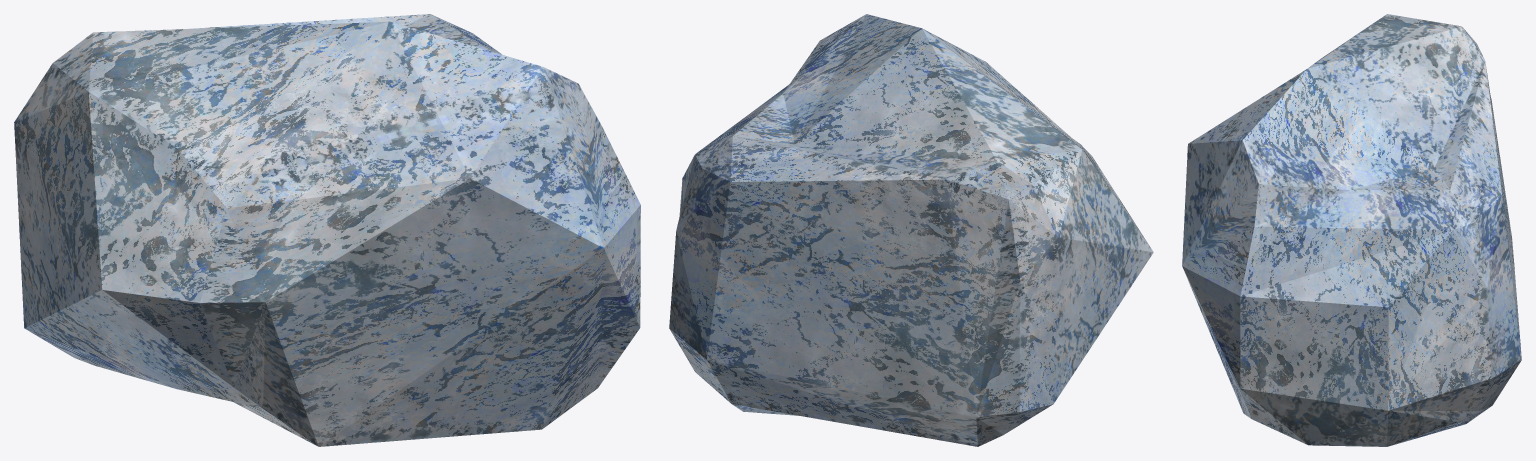
File: asteroid_ice_radial_s03_l1.fbx
3 views of the same model, side by side, from view 1: azimuth 30°, elevation 25°; view 2: azimuth 150°, elevation 25°; view 3: azimuth 270°, elevation 25° (orthographic). The views are drawn at different scales.
Visible parts, largest first — view 1: mesh_node; view 2: mesh_node; view 3: mesh_node.
Boxes of the visible parts, x1,y1,x2,y2 form: mesh_node: (14,14,640,446); mesh_node: (669,14,1153,446); mesh_node: (1182,14,1521,446).
Bounding box in the file's own units: 4.7 × 3.69 × 3.44.
1 material, 1 textured.
